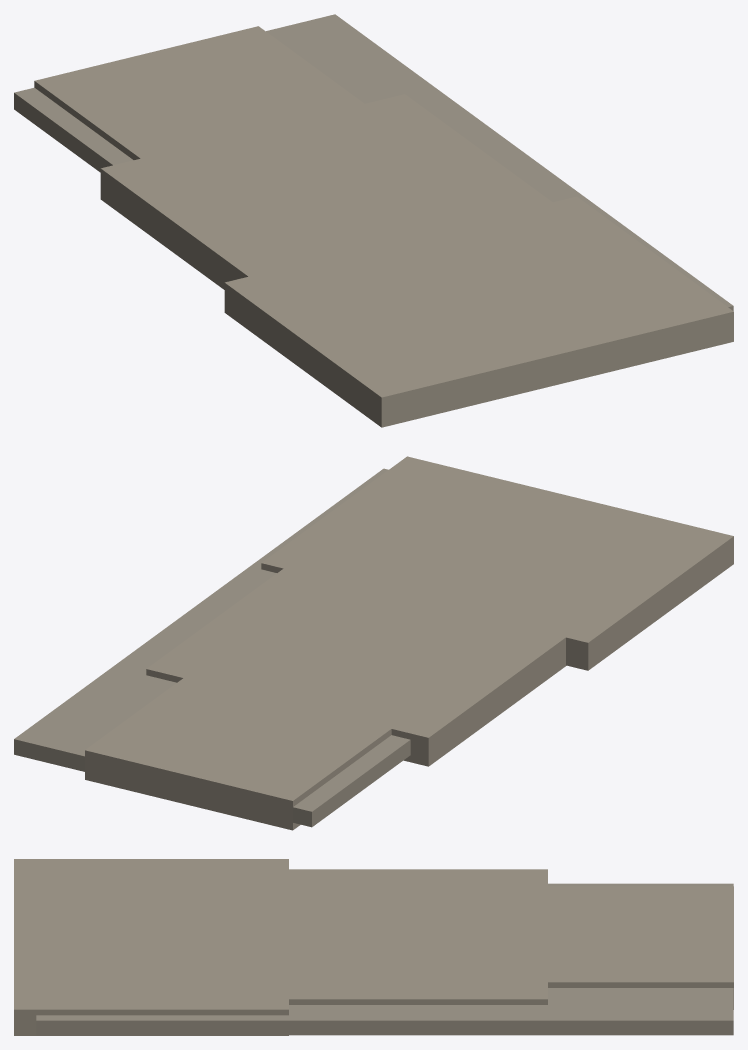
The model's file is foundation.glb.
3 views of the same model, one above another, from view 1: azimuth 30°, elevation 25°; view 2: azimuth 150°, elevation 25°; view 3: azimuth 270°, elevation 25° (orthographic). The views are drawn at different scales.
Visible parts, largest first — view 1: world; view 2: world; view 3: world.
Part boxes in pixels (x1,y1,x2,y2): world: [14, 14, 733, 427]; world: [14, 456, 733, 830]; world: [14, 859, 733, 1035].
Bounding box in the file's own units: 45.56 × 3.8 × 89.
